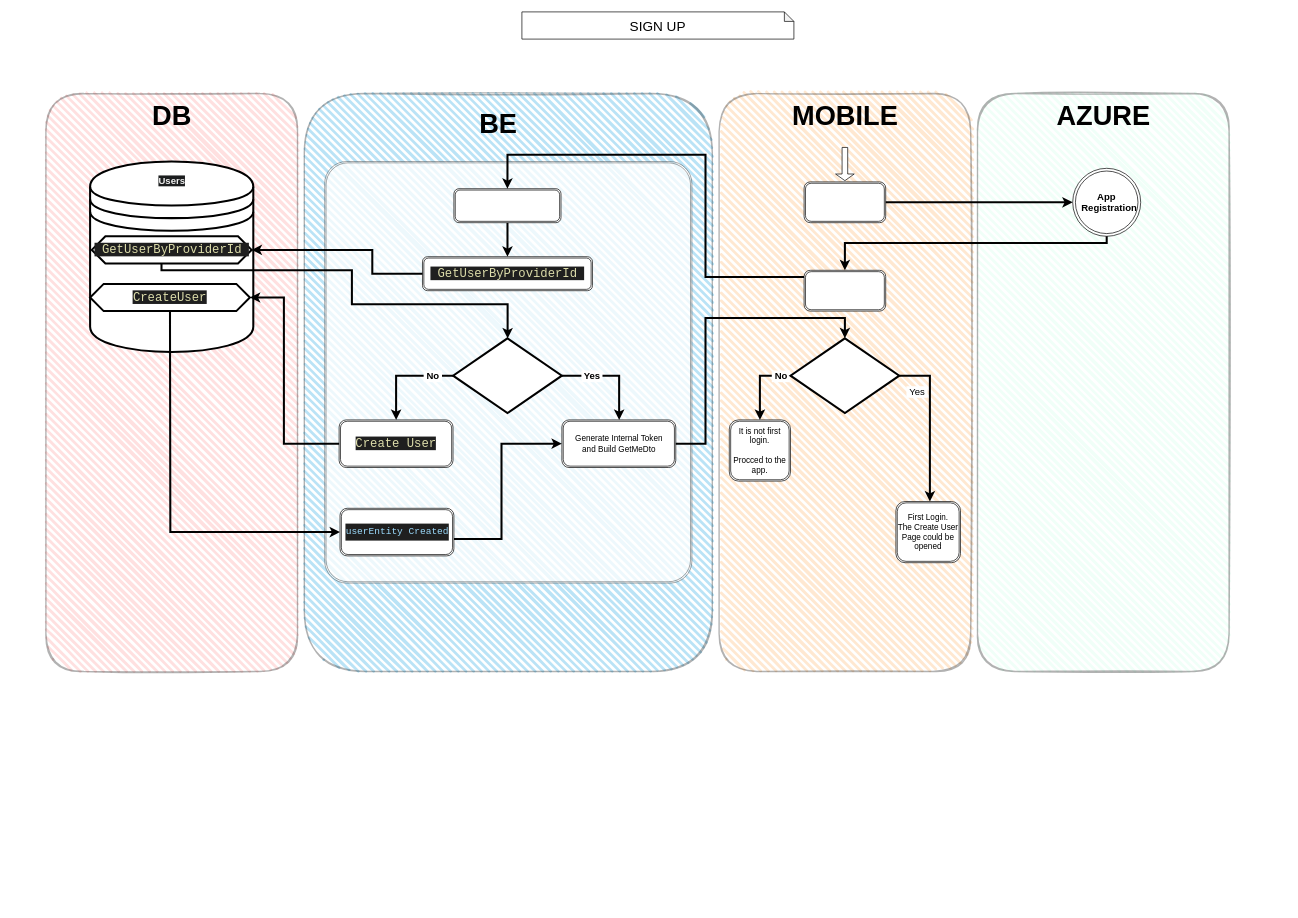
Image size: 1298x918. Some labels were removed from this diagram. The shapes that lost their labels are listed below. From the top down, each one's centre as x and y in pixels, then its label:
At pixel 507 205: "GET: auth/session (Provider Token)".
At pixel 844 202: "User Login".
At pixel 844 290: "Check User".
At pixel 507 375: "Does user exist?".
At pixel 844 375: "Does UpdateAt === null?".
